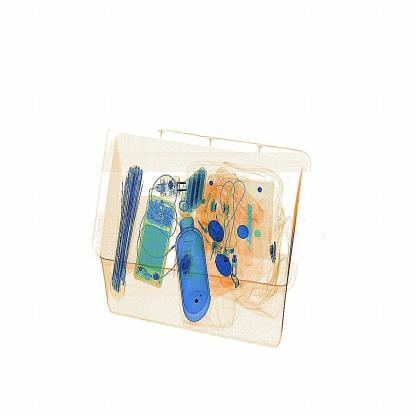pliers: (244, 198, 260, 272)
